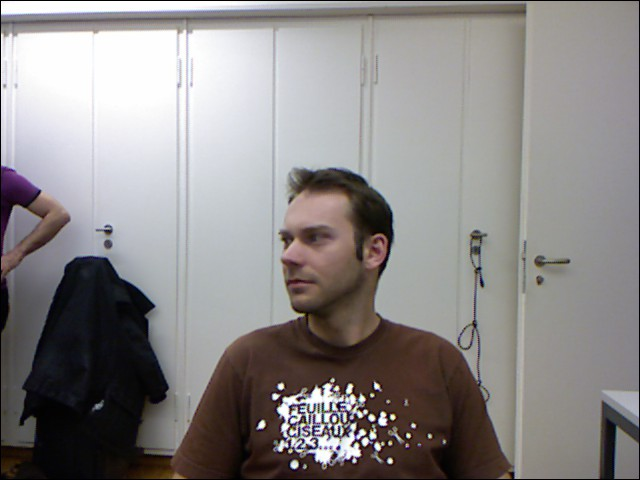deflection: (202, 179, 491, 460)
